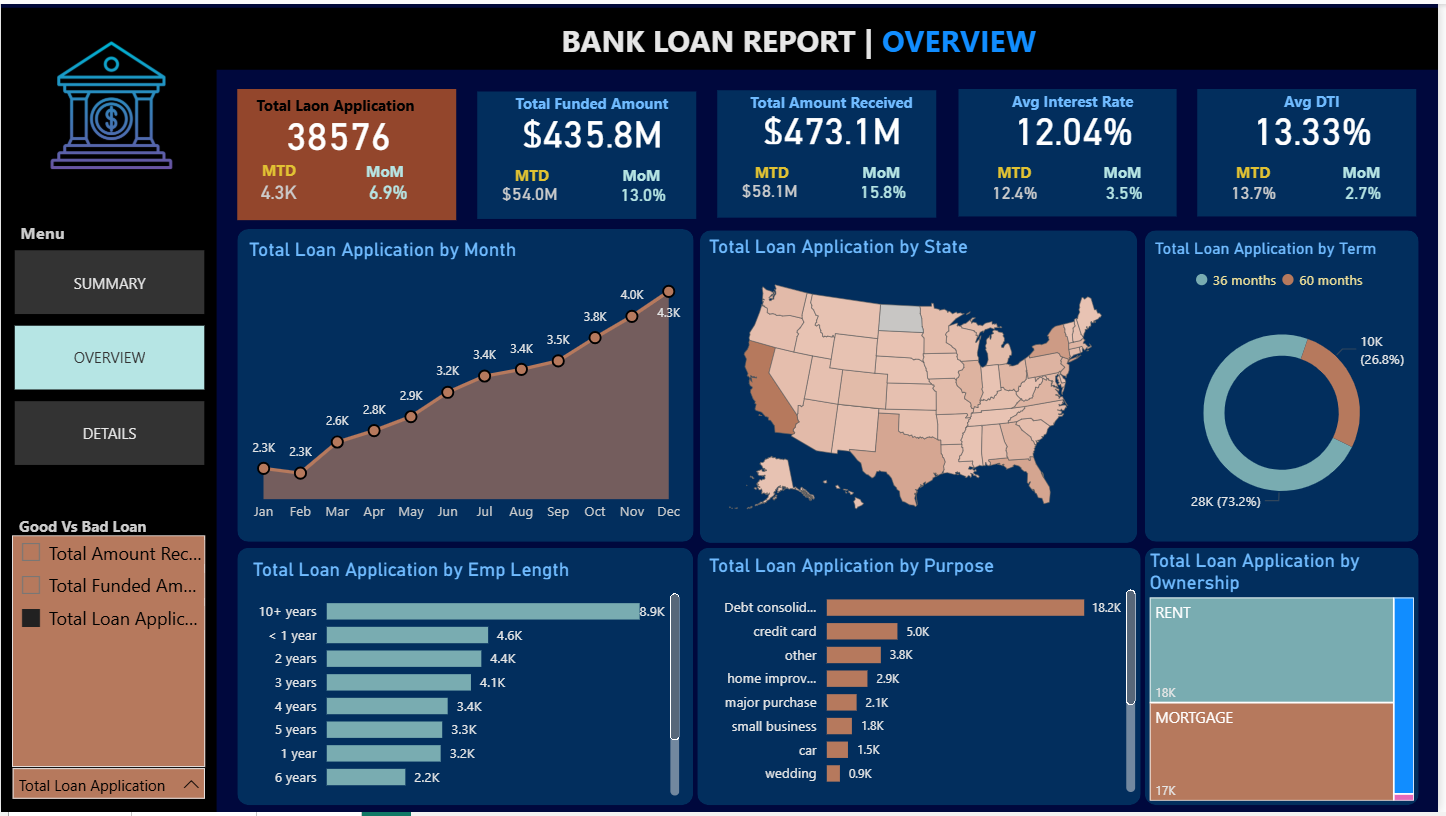

Layout of this report page (visuals, bound fields, positions):
{"tool":"powerbi","page":{"name":"OVERVIEW","canvas":[1280,720],"ordinal":1},"visuals":[{"type":"shape","box":[0,3.6,1280,55.5],"z":0},{"type":"group","id":"g1","title":"Group 3","box":[423.6,75.1,195.4,117],"z":0,"group":"g14"},{"type":"shape","box":[210.1,76.3,195,117],"z":0,"group":"g16"},{"type":"shape","box":[851.9,76.3,194.2,113.5],"z":0,"group":"g8"},{"type":"shape","box":[1065.5,76.3,195,113.5],"z":0,"group":"g15"},{"type":"shape","box":[637.2,77.4,195,113.5],"z":0,"group":"g2"},{"type":"shape","box":[423.6,78.7,195,113.5],"z":0,"group":"g1"},{"type":"card","fields":{"Values":["Measure.MTD For Amount"]},"box":[653.2,150.6,62.7,34.4],"z":0,"group":"g4"},{"type":"card","fields":{"Values":["Measure.MTD For Int Rate"]},"box":[870.3,151.4,62.7,35.1],"z":0,"group":"g5"},{"type":"card","fields":{"Values":["Measure.MTD For DTI"]},"box":[1084.4,151.4,63,35.1],"z":0,"group":"g6"},{"type":"card","fields":{"Values":["bank_loan_db bank_loan.MTD For Applications"]},"box":[220,151.8,54.3,33.8],"z":0,"group":"g3"},{"type":"card","fields":{"Values":["Measure.MTD For Fund"]},"box":[439.7,153.4,63,35.1],"z":0,"group":"g7"},{"type":"card","fields":{"Values":["Measure.MoM For Application"]},"box":[317.6,154.2,53.1,29],"z":0,"group":"g9"},{"type":"card","fields":{"Values":["Measure.MoM For Amount"]},"box":[758.6,154.7,53.1,27.5],"z":0,"group":"g10"},{"type":"card","fields":{"Values":["Measure.MoM For Int Rate"]},"box":[973.3,155.1,53.1,28.1],"z":0,"group":"g11"},{"type":"card","fields":{"Values":["Measure.MoM For DTI"]},"box":[1187.4,155.1,53.3,28.1],"z":0,"group":"g12"},{"type":"card","fields":{"Values":["Measure.MoM For Fund"]},"box":[545.4,157.5,53.3,28.1],"z":0,"group":"g13"},{"type":"shape","box":[210.9,200,406.6,278.7],"z":0,"group":"g17"},{"type":"shape","box":[621.8,201.2,389.7,278.7],"z":0,"group":"g18"},{"type":"shape","box":[209.9,483.8,406,229.2],"z":0,"group":"g19"},{"type":"group","id":"g2","title":"Group 3","box":[637.2,73.9,195.4,117],"z":1000,"group":"g14"},{"type":"group","id":"g3","title":"Group 1","box":[220,134.2,54.3,51.4],"z":1000,"group":"g16"},{"type":"textbox","box":[220,134.2,54.3,30.2],"z":1000,"group":"g3"},{"type":"textbox","box":[310.4,135.4,62.7,37.4],"z":1000,"group":"g9"},{"type":"textbox","box":[751.7,135.8,62.7,35.5],"z":1000,"group":"g10"},{"type":"textbox","box":[966.4,135.8,62.7,36.3],"z":1000,"group":"g11"},{"type":"textbox","box":[1180.5,135.8,63,36.3],"z":1000,"group":"g12"},{"type":"group","id":"g4","title":"Group 1","box":[653.2,136.1,64.3,48.9],"z":1000,"group":"g2"},{"type":"textbox","box":[656,136.1,61.5,28.7],"z":1000,"group":"g4"},{"type":"group","id":"g5","title":"Group 1","box":[870.3,136.2,62.7,50.3],"z":1000,"group":"g8"},{"type":"textbox","box":[870.6,136.2,61.5,29.2],"z":1000,"group":"g5"},{"type":"group","id":"g6","title":"Group 1","box":[1084.4,136.2,63,50.3],"z":1000,"group":"g15"},{"type":"textbox","box":[1084.4,136.2,61.8,29.2],"z":1000,"group":"g6"},{"type":"textbox","box":[538.5,138.2,63,36.3],"z":1000,"group":"g13"},{"type":"group","id":"g7","title":"Group 1","box":[439.7,138.6,64.5,49.9],"z":1000,"group":"g1"},{"type":"textbox","box":[442.5,138.6,61.8,29.2],"z":1000,"group":"g7"},{"type":"shape","box":[620.1,483.8,395,229.2],"z":1000},{"type":"shape","box":[0,54.9,192,665.5],"z":2000},{"type":"group","id":"g8","title":"Group 3","box":[851.9,72.7,194.2,117],"z":2000,"group":"g14"},{"type":"group","id":"g9","title":"Group 2","box":[310.4,135.4,62.7,47.8],"z":2000,"group":"g16"},{"type":"group","id":"g10","title":"Group 2","box":[751.7,135.8,62.7,46.4],"z":2000,"group":"g2"},{"type":"group","id":"g11","title":"Group 2","box":[966.4,135.8,62.7,47.4],"z":2000,"group":"g8"},{"type":"group","id":"g12","title":"Group 2","box":[1180.5,135.8,63,47.4],"z":2000,"group":"g15"},{"type":"group","id":"g13","title":"Group 2","box":[538.5,138.2,63,47.4],"z":2000,"group":"g1"},{"type":"group","id":"g14","title":"Group 5","box":[210.1,72.7,1050.8,120.6],"z":3000},{"type":"textbox","box":[868.6,72.7,170.1,29.2],"z":3000,"group":"g8"},{"type":"group","id":"g15","title":"Group 3","box":[1065.5,72.7,195.4,117],"z":3000,"group":"g14"},{"type":"textbox","box":[1082.3,72.7,170.8,29.2],"z":3000,"group":"g15"},{"type":"textbox","box":[653.9,73.9,170.1,28.7],"z":3000,"group":"g2"},{"type":"textbox","box":[440.3,75.1,170.8,29.2],"z":3000,"group":"g1"},{"type":"textbox","box":[217.3,76.5,159.3,27.7],"z":3000,"group":"g16"},{"type":"group","id":"g16","title":"Group 4","box":[210.1,76.3,195,117],"z":4000,"group":"g14"},{"type":"card","fields":{"Values":["Measure.Avg Interst Rate"]},"box":[883.3,91.4,142.4,39.8],"z":4000,"group":"g8"},{"type":"card","fields":{"Values":["Measure.Avg DTI"]},"box":[1097,91.4,142.9,39.8],"z":4000,"group":"g15"},{"type":"card","fields":{"Values":["Measure.Total Amount Received"]},"box":[668.6,92.2,142.4,39],"z":4000,"group":"g2"},{"type":"card","fields":{"Values":["Measure.Total Funded Amount"]},"box":[455.1,93.8,142.9,39.8],"z":4000,"group":"g1"},{"type":"card","fields":{"Values":["bank_loan_db bank_loan.Total Loan Application"]},"box":[240.1,95.3,120.6,42.2],"z":4000,"group":"g16"},{"type":"group","id":"g17","title":"Group 6","box":[210.9,200,406.6,278.7],"z":4000},{"type":"group","id":"g18","title":"Group 6","box":[621.8,201.2,389.7,278.7],"z":5000},{"type":"slicer","fields":{"Values":["bank_loan.grade"]},"box":[0,536.6,191.7,48.6],"z":6000},{"type":"slicer","fields":{"Values":["bank_loan.address_state"]},"box":[0,610.7,191.7,48.6],"z":7000},{"type":"slicer","fields":{"Values":["bank_loan.Good Vs Bad Loan"]},"box":[0,471.5,191.7,48.6],"z":8000},{"type":"textbox","box":[10.2,517.5,72.8,29.4],"z":9000},{"type":"textbox","box":[11.5,588.5,58.8,35.8],"z":10000},{"type":"textbox","box":[470.5,8.4,479,45.8],"z":11000},{"type":"lineChart","fields":{"Y":["Measure.Total Amount Received"],"Category":["Calendar.Month Name"]},"box":[215.7,208.4,397,262],"z":12000},{"type":"textbox","box":[11.4,450.8,134,30],"z":13000},{"type":"shape","box":[1018.6,201.2,244,277.5],"z":14000},{"type":"barChart","fields":{"Y":["Measure.Total Amount Received"],"Category":["bank_loan.emp_length"]},"box":[218.3,492.2,390,217],"z":14004,"group":"g19"},{"type":"donutChart","fields":{"Y":["Measure.Total Amount Received"],"Category":["bank_loan.term"]},"box":[1027.3,209.6,226,260],"z":15000},{"type":"group","id":"g19","title":"Group 7","box":[209.9,483.8,406,229.2],"z":16000},{"type":"barChart","fields":{"Y":["Measure.Total Amount Received"],"Category":["bank_loan.purpose"]},"box":[625.1,489.8,389.7,217.2],"z":17000},{"type":"shape","box":[1018.2,483.8,244,229.2],"z":18000},{"type":"treemap","fields":{"Group":["bank_loan.home_ownership"],"Values":["Measure.Total Amount Received"]},"box":[1023.1,485,235.3,224.4],"z":19000},{"type":"textbox","box":[10.9,650.7,113.4,29],"z":19000,"group":"g20"},{"type":"shapeMap","fields":{"Value":["Measure.Total Amount Received"],"Category":["bank_loan.address_state"]},"box":[626.1,206.3,378,269],"z":20000},{"type":"slicer","fields":{"Values":["Select Measure.Select Measure"]},"box":[0,670,191.8,45.8],"z":20000,"group":"g20"},{"type":"group","id":"g20","title":"Group 8","box":[0,650.7,191.8,65.1],"z":21000},{"type":"image","box":[36.2,27.7,123.1,125.5],"z":22000},{"type":"textbox","box":[12.1,188.2,72.4,30.2],"z":23000},{"type":"pageNavigator","box":[12.1,219.6,169,193],"z":24000}]}

Visuals, with their boxes in screenshot pixels (x1, y1, x2, y2), scaled from the page's 1280x720 canvas onto the 1446x816 screenshot:
shape: (x1=0, y1=4, x2=1445, y2=67)
"Group 3" group: (x1=479, y1=85, x2=699, y2=218)
shape: (x1=237, y1=86, x2=458, y2=219)
shape: (x1=962, y1=86, x2=1182, y2=215)
shape: (x1=1204, y1=86, x2=1424, y2=215)
shape: (x1=720, y1=88, x2=940, y2=216)
shape: (x1=479, y1=89, x2=699, y2=218)
card - Measure.MTD For Amount: (x1=738, y1=171, x2=809, y2=210)
card - Measure.MTD For Int Rate: (x1=983, y1=172, x2=1054, y2=211)
card - Measure.MTD For DTI: (x1=1225, y1=172, x2=1296, y2=211)
card - bank_loan_db bank_loan.MTD For Applications: (x1=249, y1=172, x2=310, y2=210)
card - Measure.MTD For Fund: (x1=497, y1=174, x2=568, y2=214)
card - Measure.MoM For Application: (x1=359, y1=175, x2=419, y2=208)
card - Measure.MoM For Amount: (x1=857, y1=175, x2=917, y2=206)
card - Measure.MoM For Int Rate: (x1=1100, y1=176, x2=1160, y2=208)
card - Measure.MoM For DTI: (x1=1341, y1=176, x2=1402, y2=208)
card - Measure.MoM For Fund: (x1=616, y1=178, x2=676, y2=210)
shape: (x1=238, y1=227, x2=698, y2=543)
shape: (x1=702, y1=228, x2=1143, y2=544)
shape: (x1=237, y1=548, x2=696, y2=808)
"Group 3" group: (x1=720, y1=84, x2=941, y2=216)
"Group 1" group: (x1=249, y1=152, x2=310, y2=210)
textbox: (x1=249, y1=152, x2=310, y2=186)
textbox: (x1=351, y1=153, x2=421, y2=196)
textbox: (x1=849, y1=154, x2=920, y2=194)
textbox: (x1=1092, y1=154, x2=1163, y2=195)
textbox: (x1=1334, y1=154, x2=1405, y2=195)
"Group 1" group: (x1=738, y1=154, x2=811, y2=210)
textbox: (x1=741, y1=154, x2=811, y2=187)
"Group 1" group: (x1=983, y1=154, x2=1054, y2=211)
textbox: (x1=984, y1=154, x2=1053, y2=187)
"Group 1" group: (x1=1225, y1=154, x2=1296, y2=211)
textbox: (x1=1225, y1=154, x2=1295, y2=187)
textbox: (x1=608, y1=157, x2=680, y2=198)
"Group 1" group: (x1=497, y1=157, x2=570, y2=214)
textbox: (x1=500, y1=157, x2=570, y2=190)
shape: (x1=701, y1=548, x2=1147, y2=808)
shape: (x1=0, y1=62, x2=217, y2=815)
"Group 3" group: (x1=962, y1=82, x2=1182, y2=215)
"Group 2" group: (x1=351, y1=153, x2=421, y2=208)
"Group 2" group: (x1=849, y1=154, x2=920, y2=206)
"Group 2" group: (x1=1092, y1=154, x2=1163, y2=208)
"Group 2" group: (x1=1334, y1=154, x2=1405, y2=208)
"Group 2" group: (x1=608, y1=157, x2=680, y2=210)
"Group 5" group: (x1=237, y1=82, x2=1424, y2=219)
textbox: (x1=981, y1=82, x2=1173, y2=115)
"Group 3" group: (x1=1204, y1=82, x2=1424, y2=215)
textbox: (x1=1223, y1=82, x2=1416, y2=115)
textbox: (x1=739, y1=84, x2=931, y2=116)
textbox: (x1=497, y1=85, x2=690, y2=118)
textbox: (x1=245, y1=87, x2=425, y2=118)
"Group 4" group: (x1=237, y1=86, x2=458, y2=219)
card - Measure.Avg Interst Rate: (x1=998, y1=104, x2=1159, y2=149)
card - Measure.Avg DTI: (x1=1239, y1=104, x2=1401, y2=149)
card - Measure.Total Amount Received: (x1=755, y1=104, x2=916, y2=149)
card - Measure.Total Funded Amount: (x1=514, y1=106, x2=676, y2=151)
card - bank_loan_db bank_loan.Total Loan Application: (x1=271, y1=108, x2=407, y2=156)
"Group 6" group: (x1=238, y1=227, x2=698, y2=543)
"Group 6" group: (x1=702, y1=228, x2=1143, y2=544)
slicer - bank_loan.grade: (x1=0, y1=608, x2=217, y2=663)
slicer - bank_loan.address_state: (x1=0, y1=692, x2=217, y2=747)
slicer - bank_loan.Good Vs Bad Loan: (x1=0, y1=534, x2=217, y2=589)
textbox: (x1=12, y1=586, x2=94, y2=620)
textbox: (x1=13, y1=667, x2=79, y2=708)
textbox: (x1=532, y1=10, x2=1073, y2=61)
lineChart - Measure.Total Amount Received x Calendar.Month Name: (x1=244, y1=236, x2=692, y2=533)
textbox: (x1=13, y1=511, x2=164, y2=545)
shape: (x1=1151, y1=228, x2=1426, y2=543)
barChart - Measure.Total Amount Received x bank_loan.emp_length: (x1=247, y1=558, x2=687, y2=804)
donutChart - Measure.Total Amount Received x bank_loan.term: (x1=1161, y1=238, x2=1416, y2=532)
"Group 7" group: (x1=237, y1=548, x2=696, y2=808)
barChart - Measure.Total Amount Received x bank_loan.purpose: (x1=706, y1=555, x2=1146, y2=801)
shape: (x1=1150, y1=548, x2=1426, y2=808)
treemap - bank_loan.home_ownership x Measure.Total Amount Received: (x1=1156, y1=550, x2=1422, y2=804)
textbox: (x1=12, y1=737, x2=140, y2=770)
shapeMap - Measure.Total Amount Received x bank_loan.address_state: (x1=707, y1=234, x2=1134, y2=539)
slicer - Select Measure.Select Measure: (x1=0, y1=759, x2=217, y2=811)
"Group 8" group: (x1=0, y1=737, x2=217, y2=811)
image: (x1=41, y1=31, x2=180, y2=174)
textbox: (x1=14, y1=213, x2=95, y2=248)
pageNavigator: (x1=14, y1=249, x2=205, y2=468)
